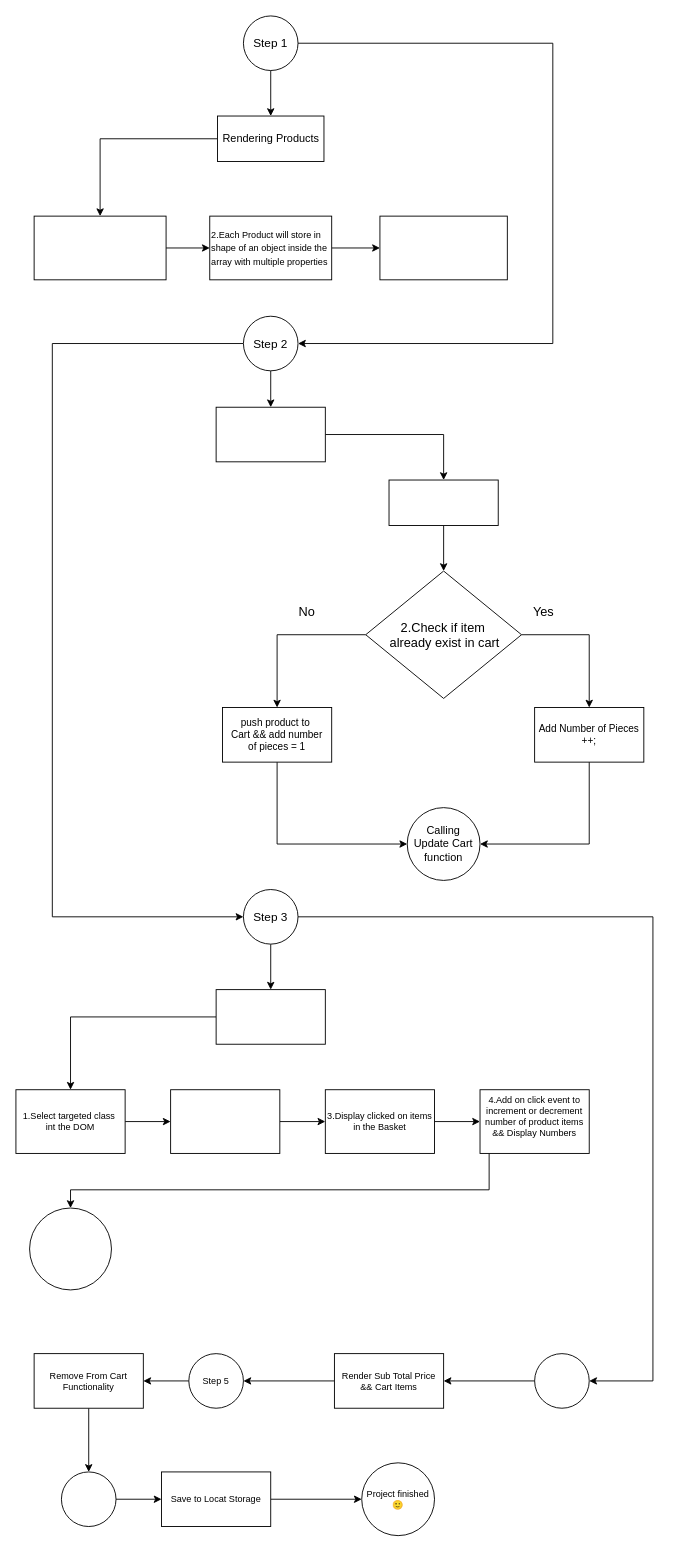
Some shapes in this 676 by 1552 pixel diagram are drawn without their labels. The shapes that lost their labels are listed below. From the top down, each one's centre as x and y in pixels, then its label:
At point 99,247: "1.Create an array to Store our Products items in shape of Objects".
At point 443,247: "3.Rendering our HTML content dynamically using JS.".
At point 270,434: "add Products to Basket".
At point 443,502: "1.Creat empty cart array".
At point 270,1016: "Render Cart Items".
At point 225,1121: "2.Set our items dynamically by looping through each item".
At point 70,1248: "Calling Change NumberOfUnits function".
At point 561,1380: "Step 4".
At point 88,1499: "step 6".
